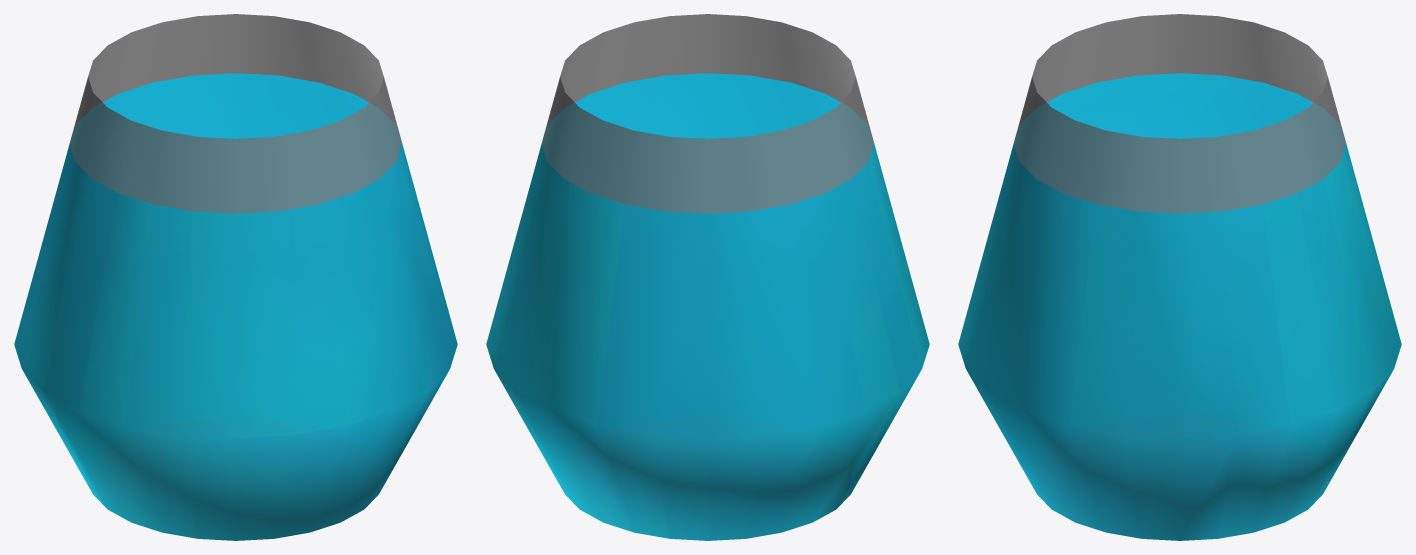
Rendered from Water glass.dae.
The picture shows the model from 3 angles, left to right: view 1: azimuth 30°, elevation 25°; view 2: azimuth 150°, elevation 25°; view 3: azimuth 270°, elevation 25°; orthographic projection.
Parts seen in each view (by area): view 1: SketchUp (×2); view 2: SketchUp (×2); view 3: SketchUp (×2).
Boxes of the visible parts, left/top/right/bottom form: SketchUp (×2): left=14, top=14, right=457, bottom=540; SketchUp (×2): left=486, top=14, right=929, bottom=540; SketchUp (×2): left=958, top=14, right=1401, bottom=540.
Size of the model in its own units: 2.36 by 2.36 by 2.36.
